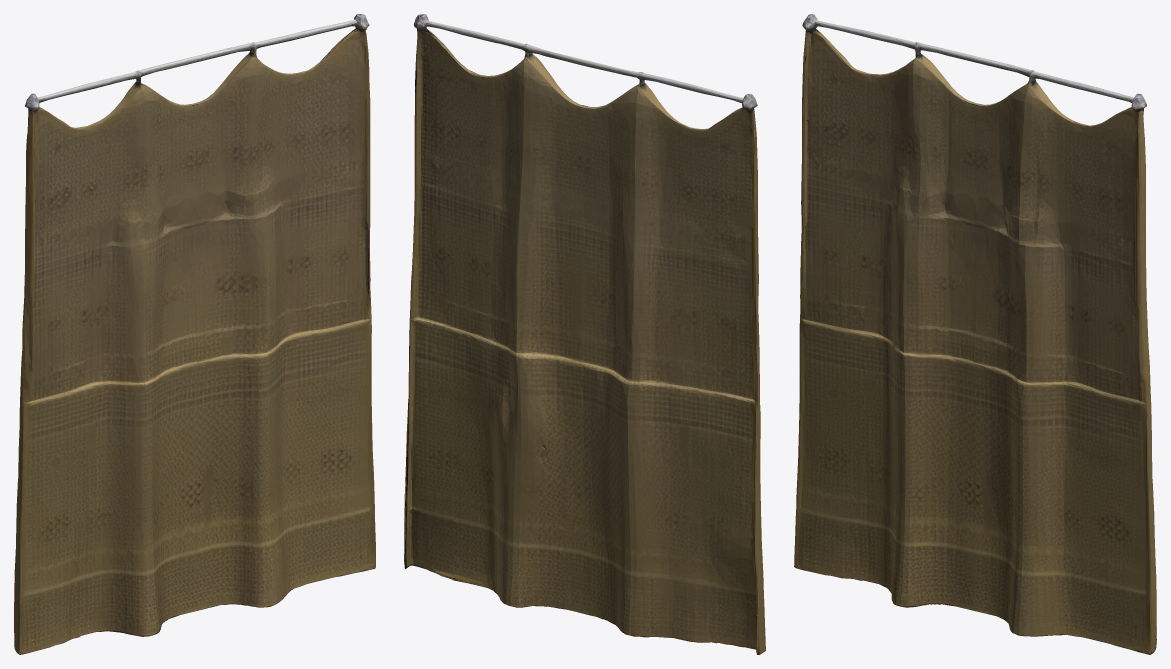
The model's file is 5acc42c5-f701-455e-99cd-71baf5ee4a1b.glb.
3 renders of one model, left to right at view 1: azimuth 30°, elevation 25°; view 2: azimuth 150°, elevation 25°; view 3: azimuth 330°, elevation 25°, orthographic.
Parts seen in each view (by area): view 1: world; view 2: world; view 3: world.
Boxes of the visible parts, bbox=[...] form: world: bbox=[14, 14, 375, 654]; world: bbox=[404, 14, 765, 654]; world: bbox=[794, 14, 1156, 654].
Size of the model in its own units: 0.6731 by 1 by 0.103.
1 material, 1 textured.
